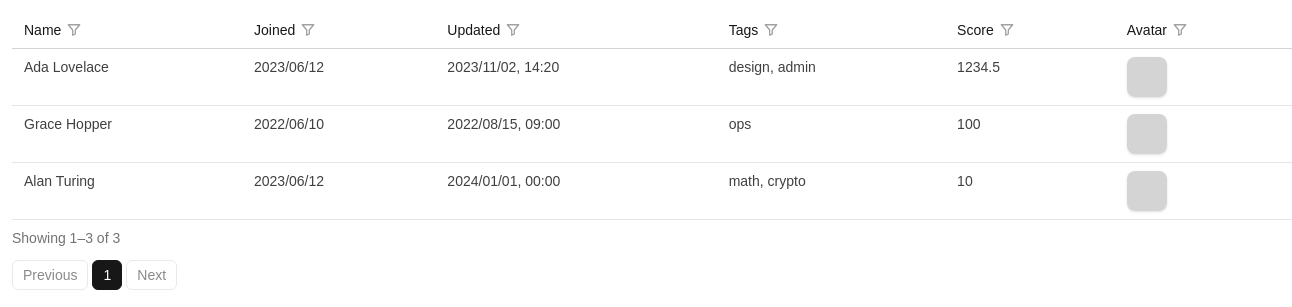
Table local filter › matches number filters exactly, never by prefix or containment
Click the button named "Filter Score" at (1007, 30), box 998,21 -> 1016,39
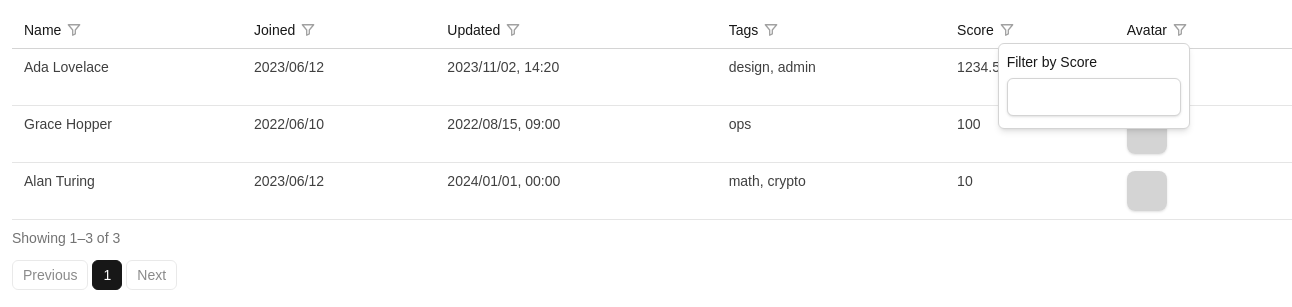
Type "10" into the number field labelled "Filter by Score" at (1094, 97), box 1007,78 -> 1181,116
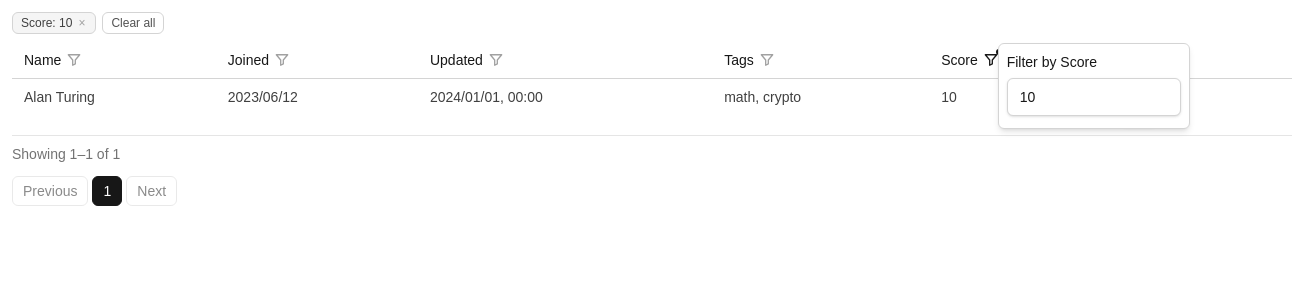
Expected: the text "Alan Turing" is shown, 12,78 -> 216,136
Expected: the text "Grace Hopper" is gone
Replace the text in the number field labelled "Filter by Score" with "1234" at (1094, 97), box 1007,78 -> 1181,116
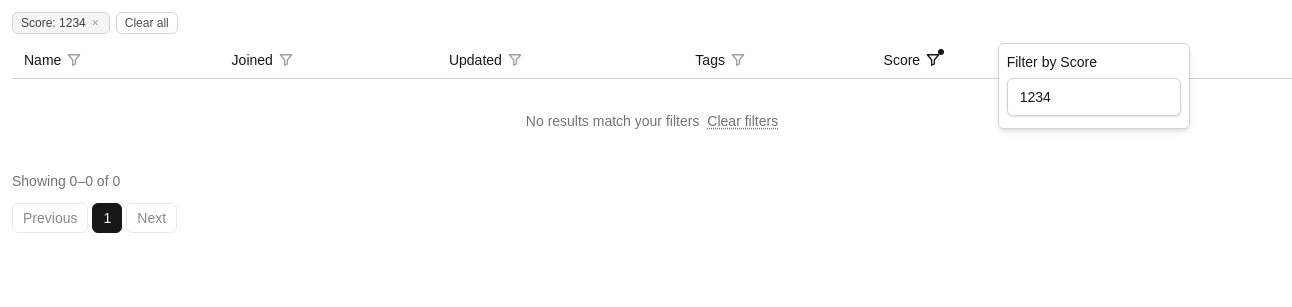
Expected: the text "No results match your filters" is shown, 526,113 -> 699,129
Replace the text in the number field labelled "Filter by Score" with "1234.5" at (1094, 97), box 1007,78 -> 1181,116
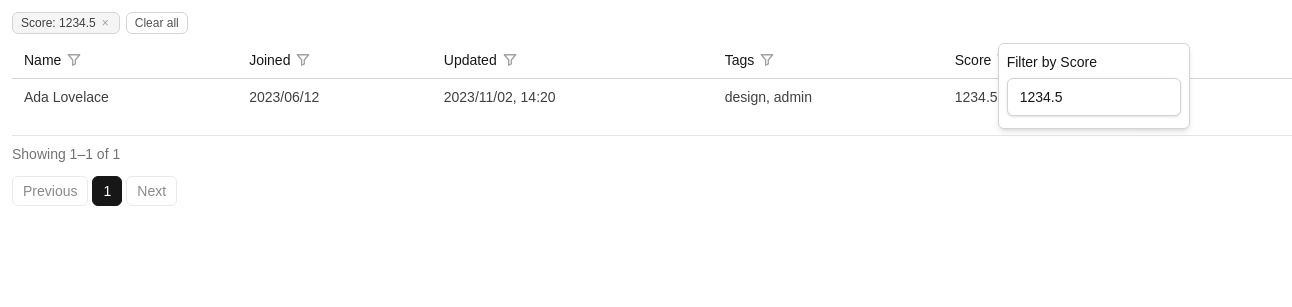
Expected: the text "Ada Lovelace" is shown, 12,78 -> 237,136
